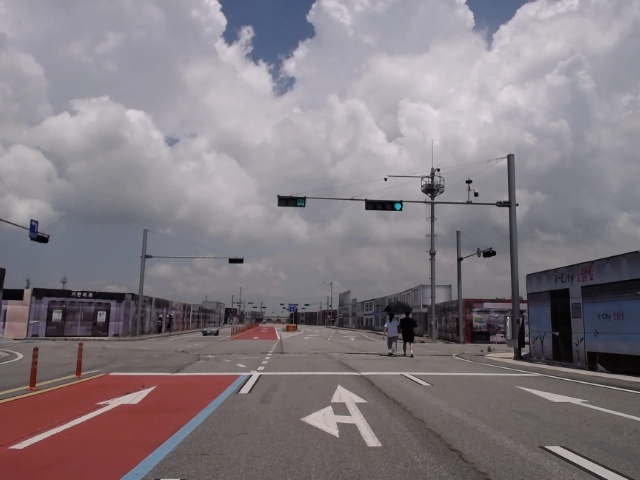straight_green_4: (368, 199, 404, 210)
